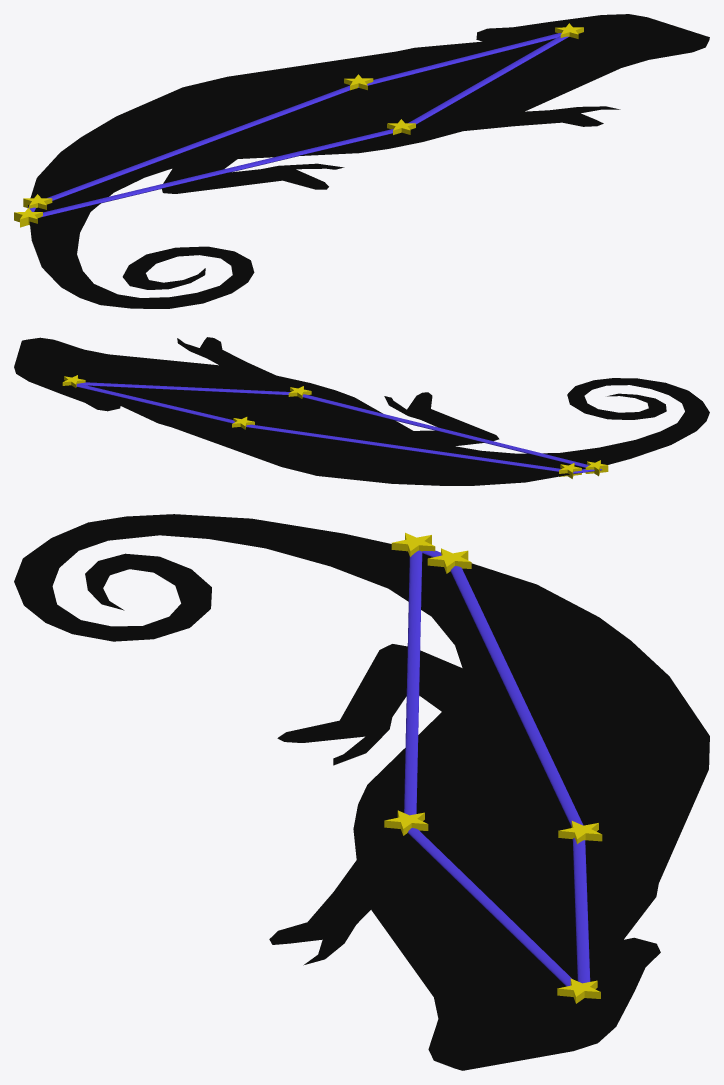
Rendered from Kameleon-za.glb.
3 renders of one model, top to bottom at view 1: azimuth 30°, elevation 25°; view 2: azimuth 150°, elevation 25°; view 3: azimuth 270°, elevation 25°, orthographic. The views are drawn at different scales.
Parts seen in each view (by area): view 1: 円, 円柱.002, 円柱.004, 円柱.003, 円柱.001; view 2: 円, 円柱.002, 円柱.004, 円柱.003, 円柱.001; view 3: 円, 円柱.004, 円柱.002, 円柱.003, 円柱.001.
Part boxes in pixels (box(x1,y1,x2,y2)): 円: box(28, 14, 709, 308); 円柱.002: box(41, 129, 393, 217); 円柱.004: box(47, 85, 349, 200); 円柱.003: box(408, 36, 568, 124); 円柱.001: box(358, 33, 561, 87); 円: box(14, 337, 709, 485); 円柱.002: box(302, 394, 588, 467); 円柱.004: box(246, 424, 560, 471); 円柱.003: box(79, 382, 290, 394); 円柱.001: box(76, 383, 234, 423); 円: box(14, 514, 709, 1070); 円柱.004: box(450, 566, 583, 826); 円柱.002: box(404, 550, 422, 815); 円柱.003: box(407, 828, 571, 986); 円柱.001: box(572, 838, 590, 983).
Size of the model in its own units: 84.06 by 0.8959 by 44.41.
